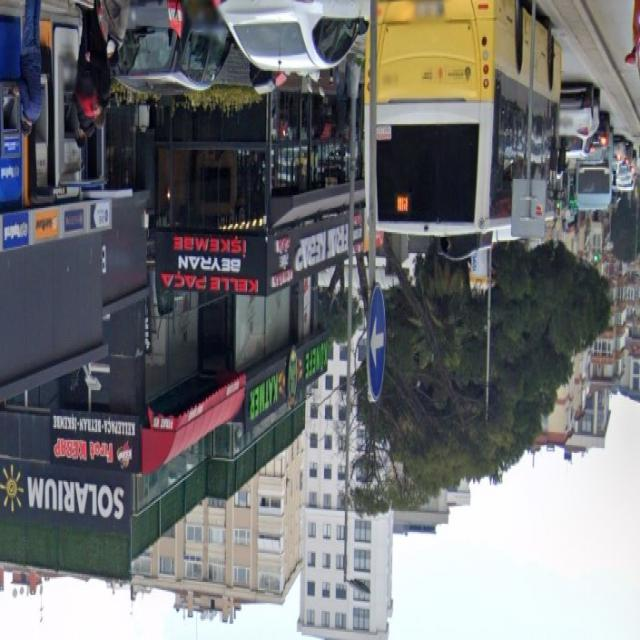Turn Left: (366, 287, 389, 398)
